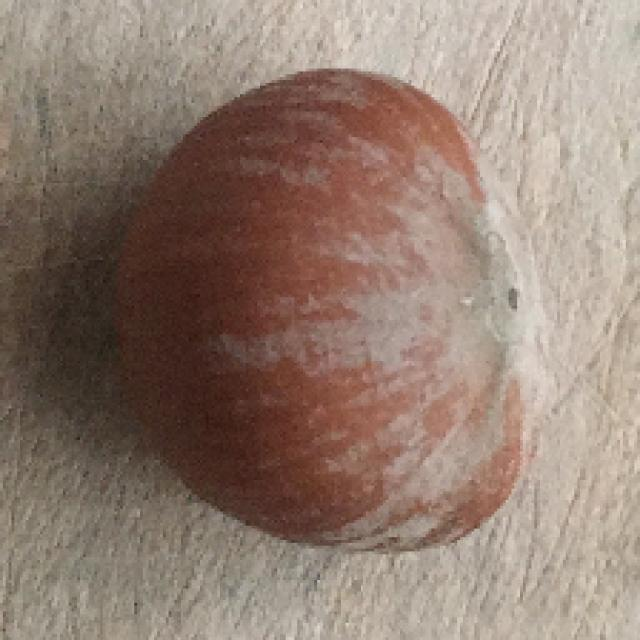qualityHazelnut: (118, 65, 542, 559)
